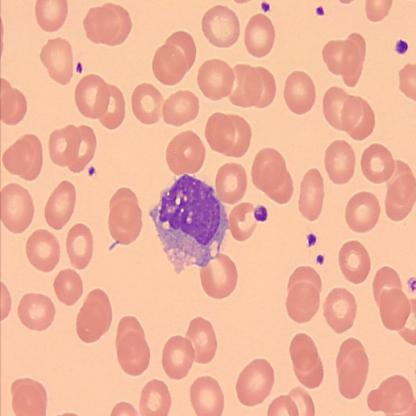Monocyte: (147, 170, 231, 275)
